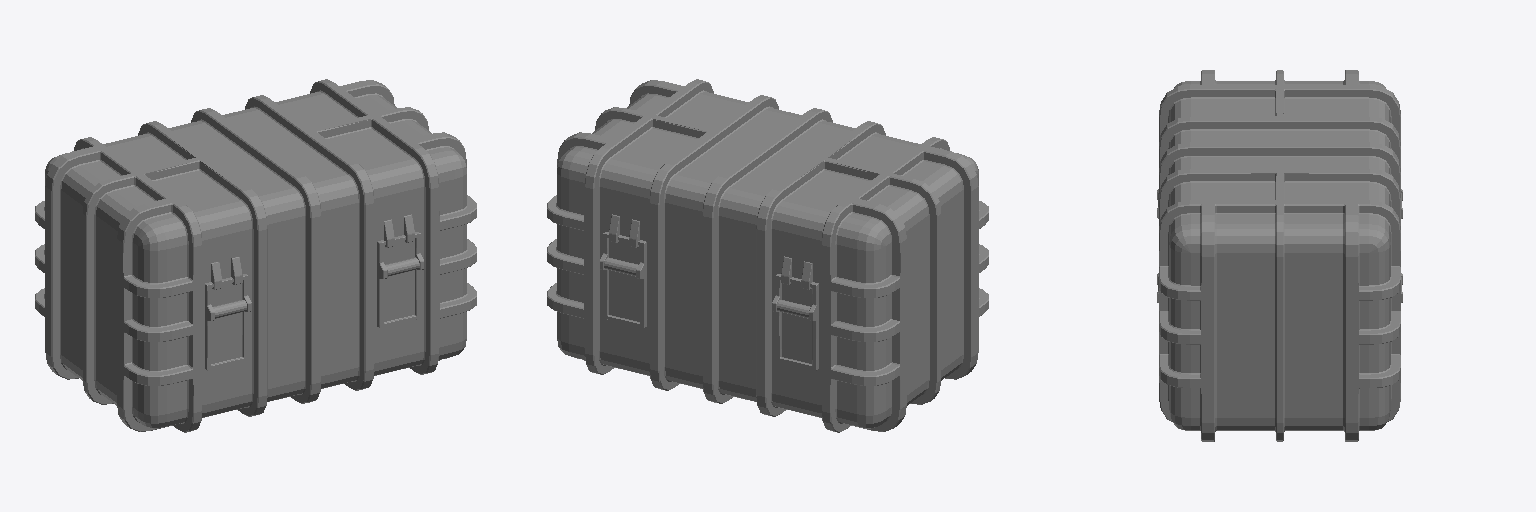
The model's file is caja.obj.
3 views of the same model, side by side, from view 1: azimuth 30°, elevation 25°; view 2: azimuth 150°, elevation 25°; view 3: azimuth 270°, elevation 25° (orthographic).
Parts seen in each view (by area): view 1: Box017; view 2: Box017; view 3: Box017.
Part boxes in pixels (left/top/right/bottom): Box017: left=35, top=79, right=476, bottom=432; Box017: left=547, top=79, right=988, bottom=432; Box017: left=1157, top=70, right=1402, bottom=441.
Size of the model in its own units: 102 by 63.35 by 63.5.